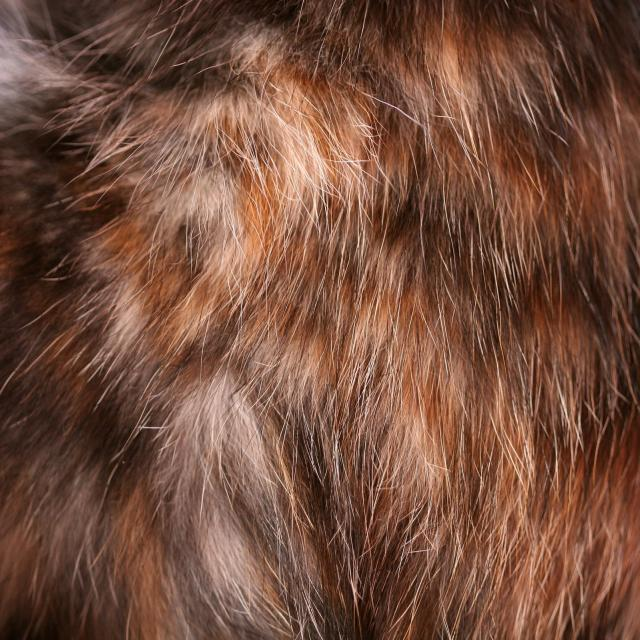Healthy skin: (332, 20, 614, 368), (3, 330, 318, 612), (8, 14, 312, 258), (348, 394, 614, 620)
